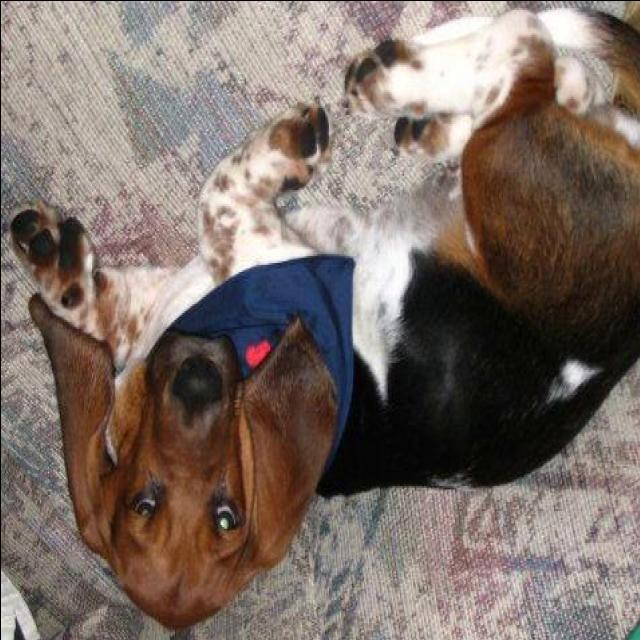basset: (9, 3, 638, 633)
